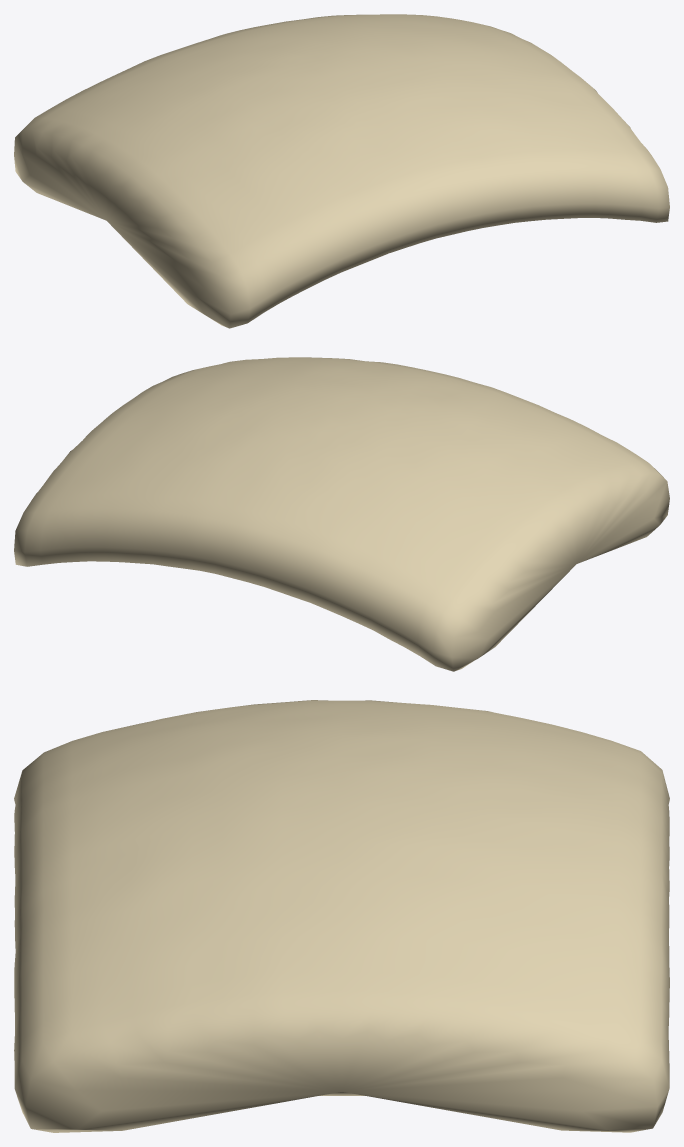
The model's file is skull_flap.glb.
3 views of the same model, one above another, from view 1: azimuth 30°, elevation 25°; view 2: azimuth 150°, elevation 25°; view 3: azimuth 270°, elevation 25° (orthographic). The views are drawn at different scales.
Visible parts, largest first — view 1: SkullFlap; view 2: SkullFlap; view 3: SkullFlap.
Part boxes in pixels (x1,y1,x2,y2): SkullFlap: [14, 14, 669, 328]; SkullFlap: [14, 357, 669, 671]; SkullFlap: [14, 700, 669, 1132].
Size of the model in its own units: 0.0598 by 0.0154 by 0.0497.
